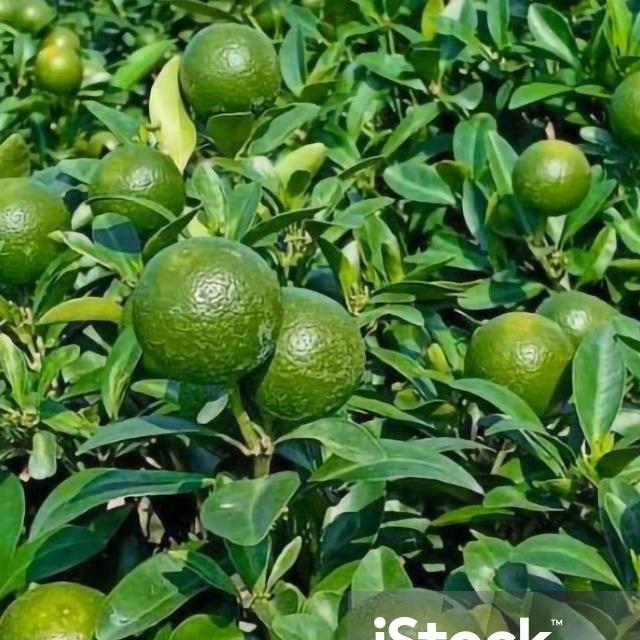lime: (126, 232, 284, 380), (610, 74, 640, 143)
